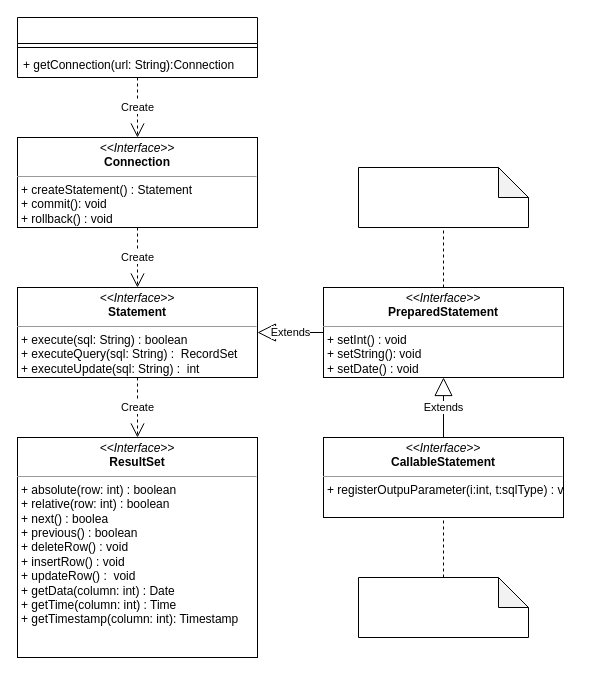
Some shapes in this 596 by 675 pixel diagram are drawn without their labels. Each missing label, with the box of its shape:
DriverManager: (16, 16, 258, 78)
ストアード プロシージャ コール用 Statement: (358, 576, 528, 638)
プリコンパイル済み Statement: (358, 166, 528, 228)
